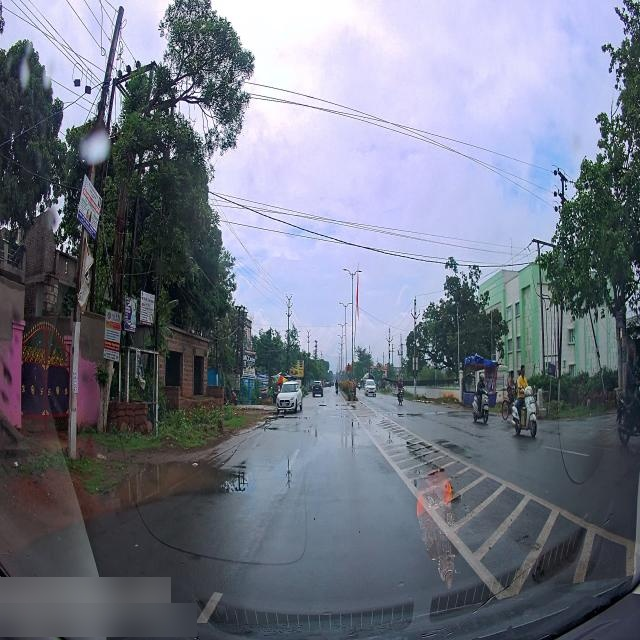pothole: (140, 466, 249, 498), (310, 423, 340, 444)
